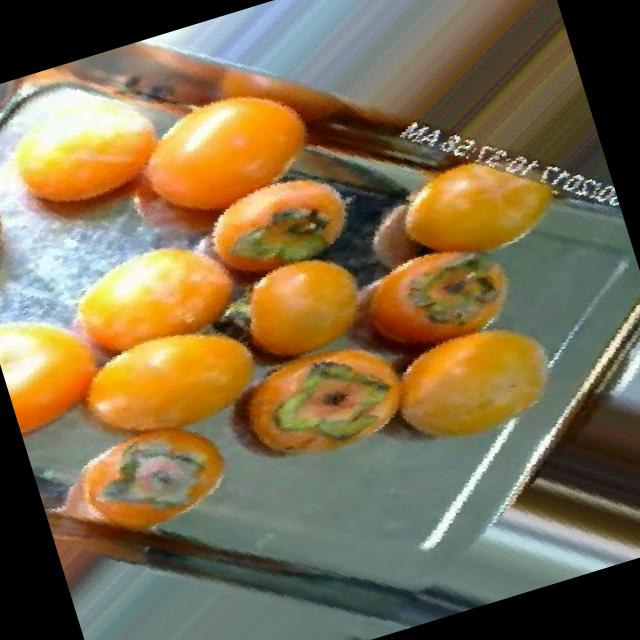Fruit: (337, 286, 598, 506), (196, 223, 396, 383)
